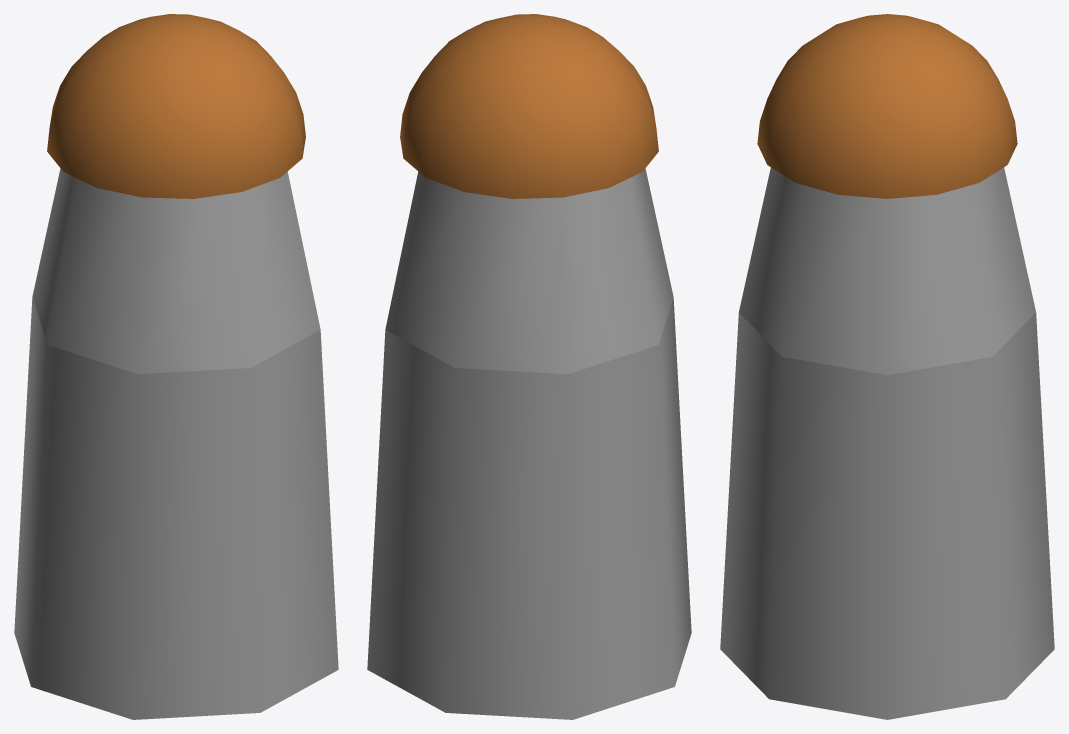
The model's file is observatory_t3.glb.
3 views of the same model, side by side, from view 1: azimuth 30°, elevation 25°; view 2: azimuth 150°, elevation 25°; view 3: azimuth 270°, elevation 25° (orthographic).
Visible parts, largest first — view 1: building-observatory, rotating-dome; view 2: building-observatory, rotating-dome; view 3: building-observatory, rotating-dome.
Part boxes in pixels (x1,y1,x2,y2): building-observatory: (14, 168, 338, 719); rotating-dome: (47, 14, 305, 198); building-observatory: (367, 168, 691, 719); rotating-dome: (400, 14, 658, 198); building-observatory: (720, 167, 1054, 719); rotating-dome: (757, 14, 1017, 198).
Bounding box in the file's own units: 0.1534 × 0.3152 × 0.1534.
